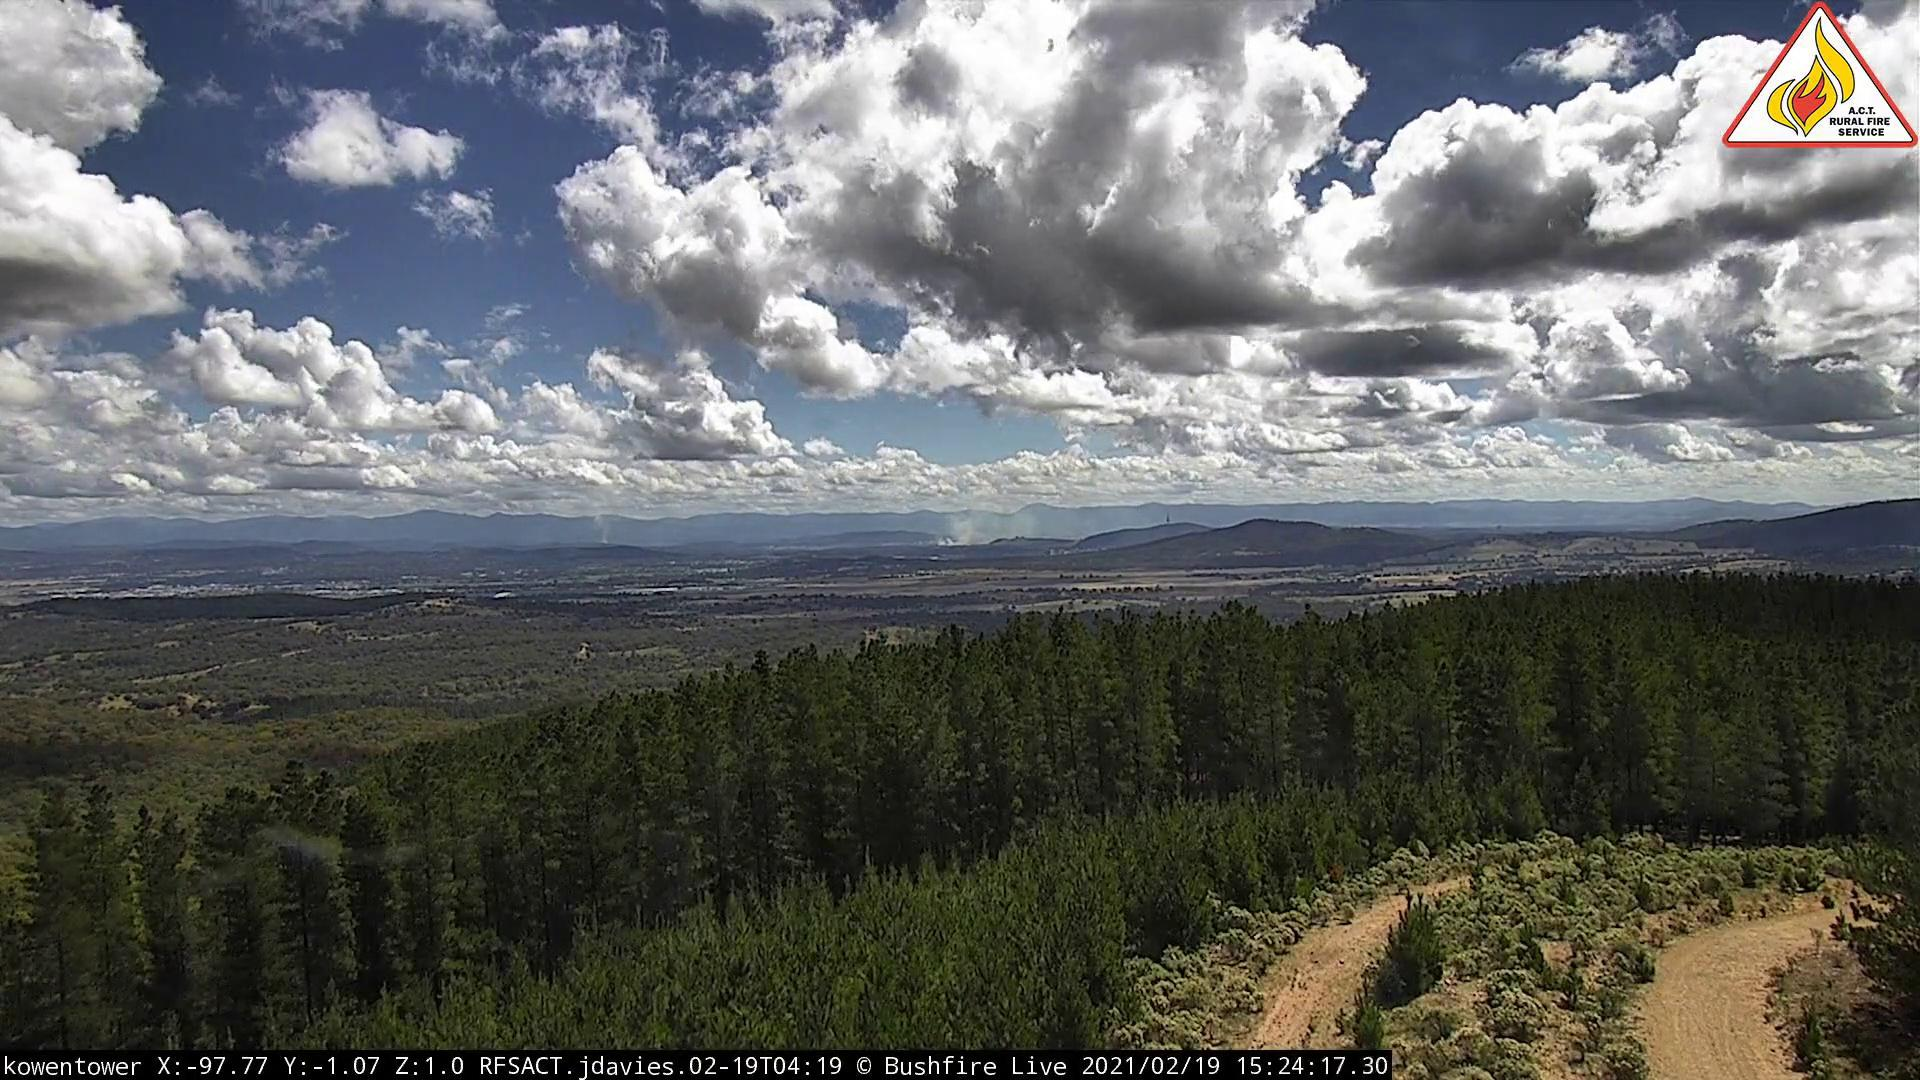Smoke: (928, 498, 1046, 553), (596, 522, 618, 554)
